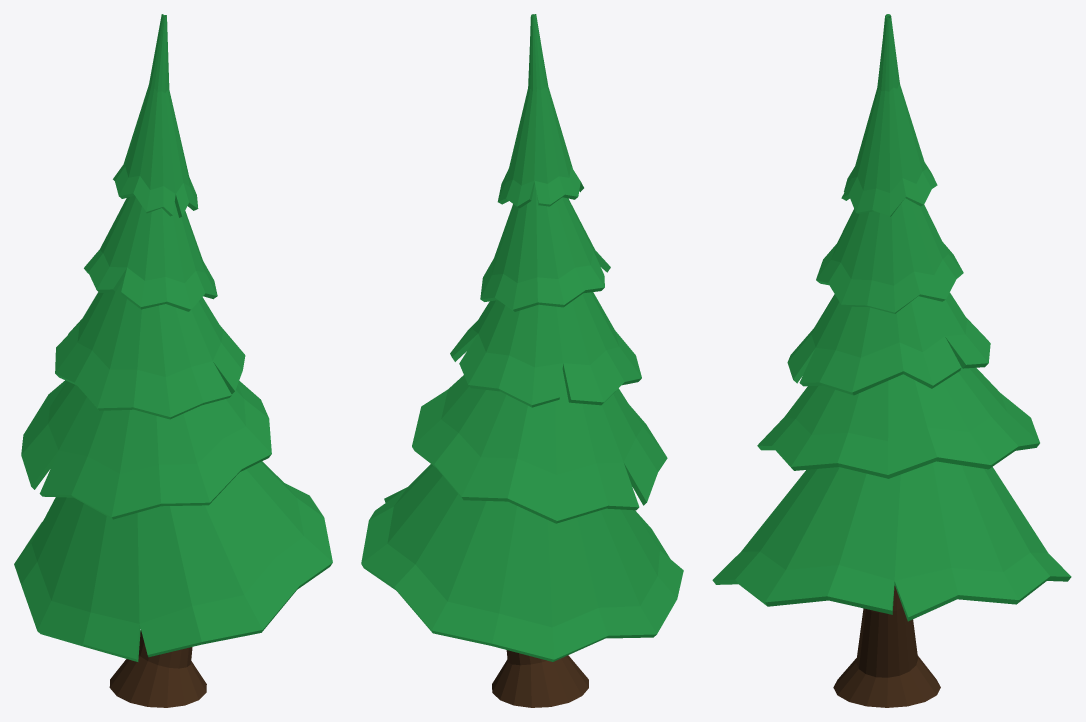
File: Tannenbaum2.fbx
The picture shows the model from 3 angles, left to right: view 1: azimuth 30°, elevation 25°; view 2: azimuth 150°, elevation 25°; view 3: azimuth 270°, elevation 25°; orthographic projection.
Parts seen in each view (by area): view 1: Cylinder; view 2: Cylinder; view 3: Cylinder.
Part boxes in pixels (left/top/right/bottom): Cylinder: left=14, top=14, right=332, bottom=707; Cylinder: left=361, top=14, right=683, bottom=707; Cylinder: left=712, top=14, right=1071, bottom=707.
Size of the model in its own units: 340 by 795 by 383.
